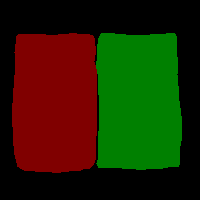mutande: (12, 33, 97, 173), (96, 32, 182, 170)
